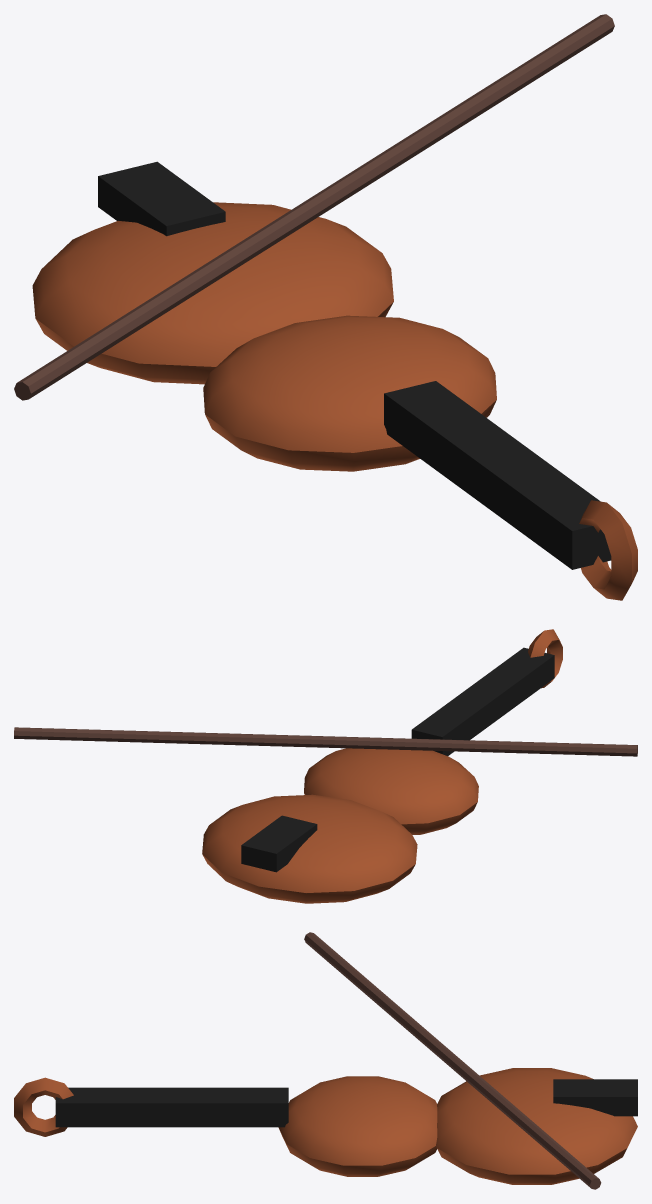
The model's file is foot_fiddle.glb.
The picture shows the model from 3 angles, top to bottom: view 1: azimuth 30°, elevation 25°; view 2: azimuth 150°, elevation 25°; view 3: azimuth 270°, elevation 25°; orthographic projection. The views are drawn at different scales.
Parts seen in each view (by area): view 1: FootFiddle_body; view 2: FootFiddle_body; view 3: FootFiddle_body.
Boxes of the visible parts, x1,y1,x2,y2 form: FootFiddle_body: [14, 14, 637, 600]; FootFiddle_body: [14, 629, 637, 903]; FootFiddle_body: [14, 932, 637, 1189].
Bounding box in the file's own units: 0.5553 × 0.121 × 0.5895.
